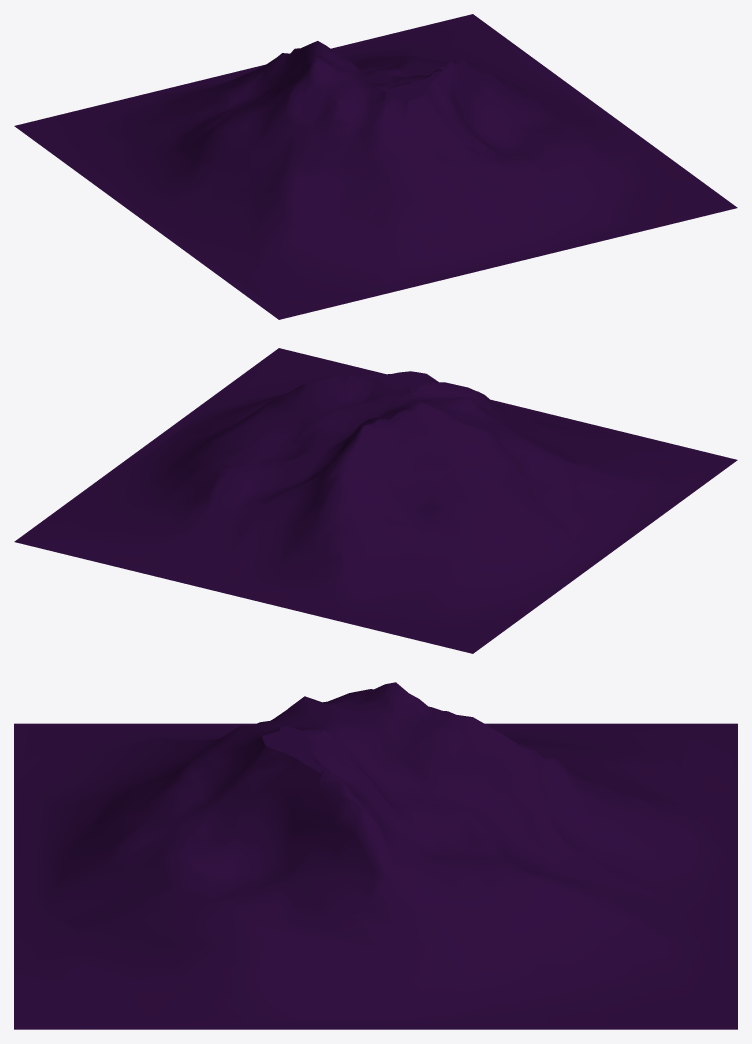
3 views of the same model, one above another, from view 1: azimuth 30°, elevation 25°; view 2: azimuth 150°, elevation 25°; view 3: azimuth 270°, elevation 25° (orthographic). The views are drawn at different scales.
Parts seen in each view (by area): view 1: Landscape, Cube; view 2: Landscape, Cube; view 3: Landscape, Cube.
Part boxes in pixels (bbox=[...]): Landscape: bbox=[14, 14, 737, 319]; Cube: bbox=[376, 68, 442, 100]; Landscape: bbox=[14, 348, 737, 653]; Cube: bbox=[353, 371, 433, 392]; Landscape: bbox=[14, 682, 737, 1029]; Cube: bbox=[262, 726, 324, 772].
Bounding box in the file's own units: 3000 × 732 × 3000.
